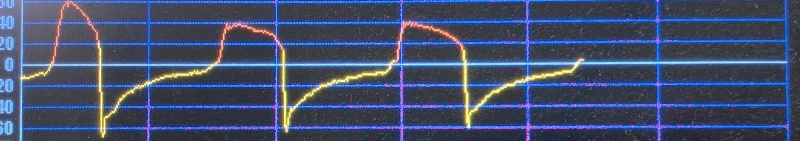normal_flow: (12, 1, 581, 138)
